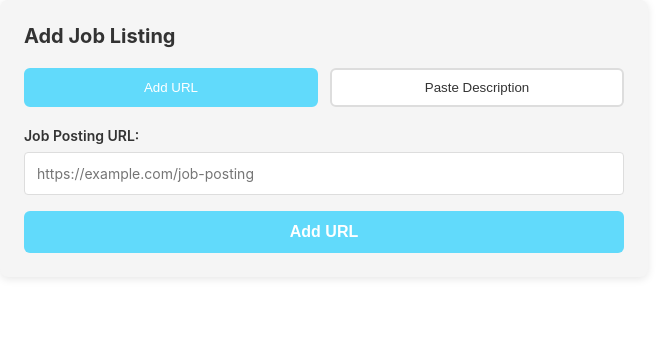
Test case: JobInputArea › shows error on empty url submit
Expected: the field with placeholder "https://example.com/job-posting" is shown, [24,152,624,195]
Step 1. Click the button "Add URL" below "Job Posting URL:" → click(324, 232), box [24,211,624,253]
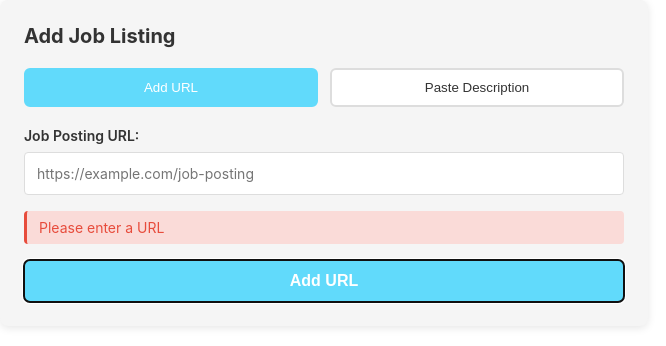
Expected: the text "Please enter a URL" is shown, [24,211,624,244]
